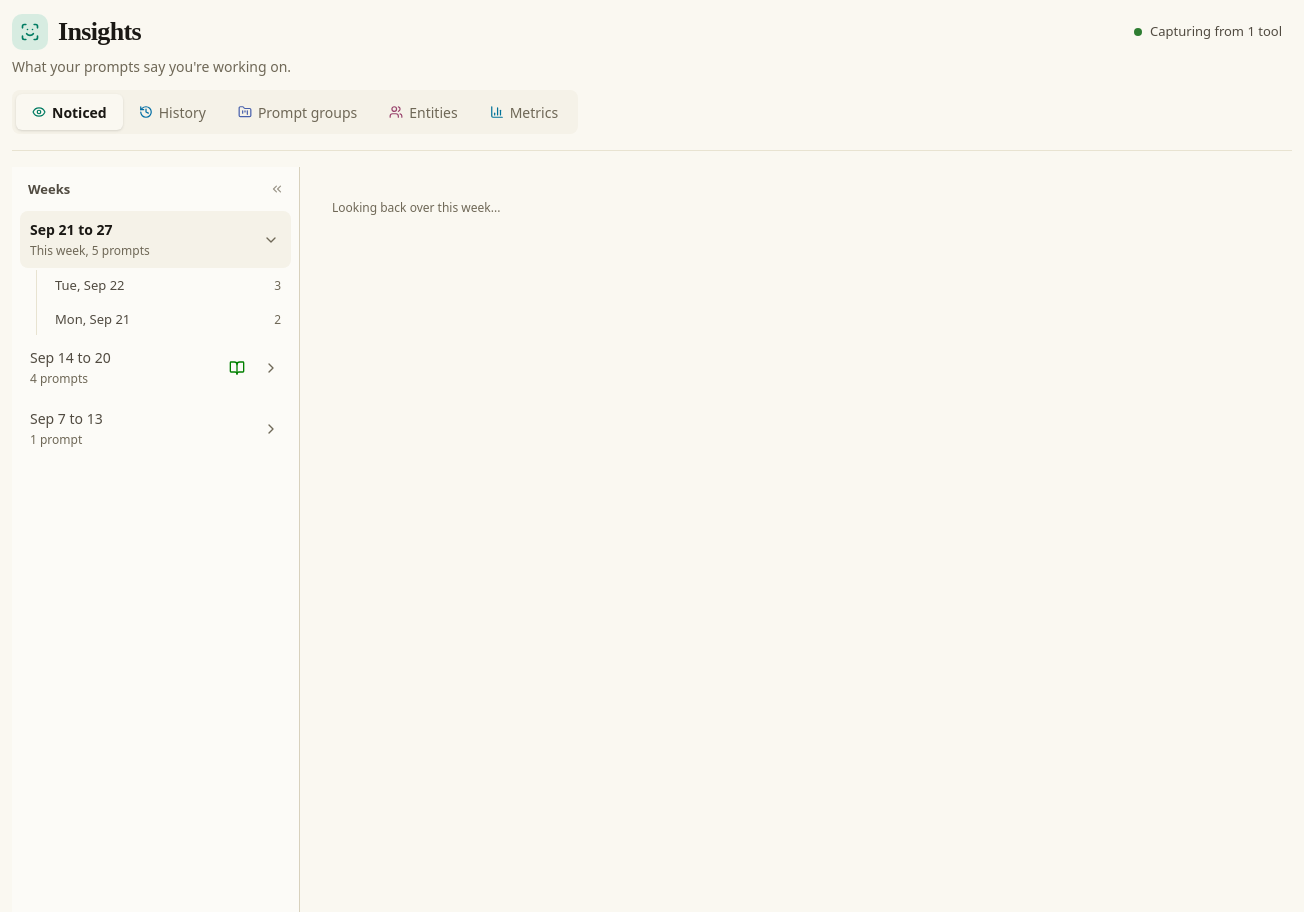
it: Noticed › a week with no letter yet gets one written once, when it is opened
What coordinates should you click on to do the following:
click the button with test id "period-week-2026-09-07"
I would click on:
 (138, 429)
Its box is top-left (20, 400), bottom-right (255, 457).
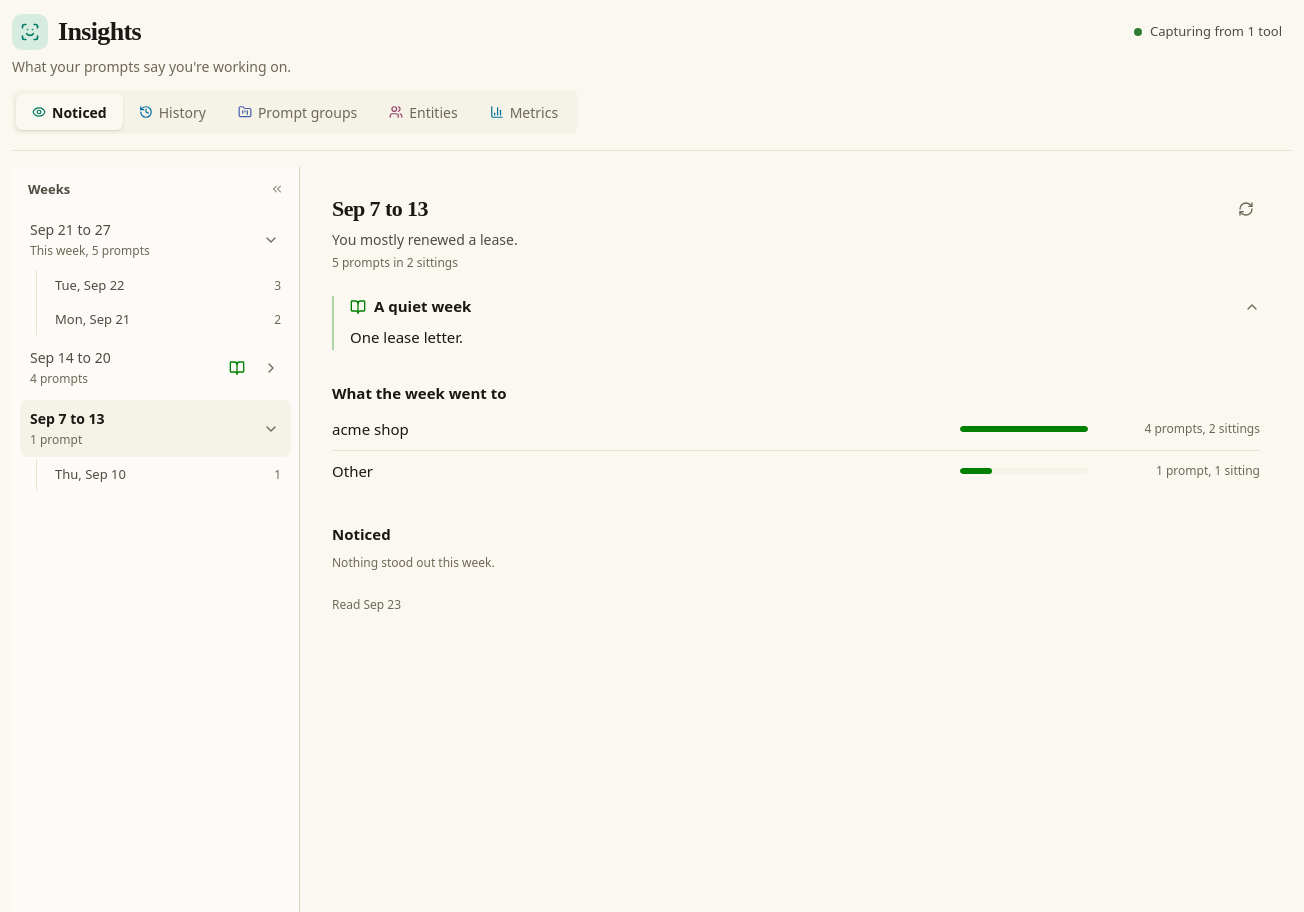
Expected: the text "A quiet week" is shown, top-left (374, 296), bottom-right (471, 316)
Expected: the text with test id "period-line" reads "You mostly renewed a lease.", top-left (332, 230), bottom-right (518, 249)
